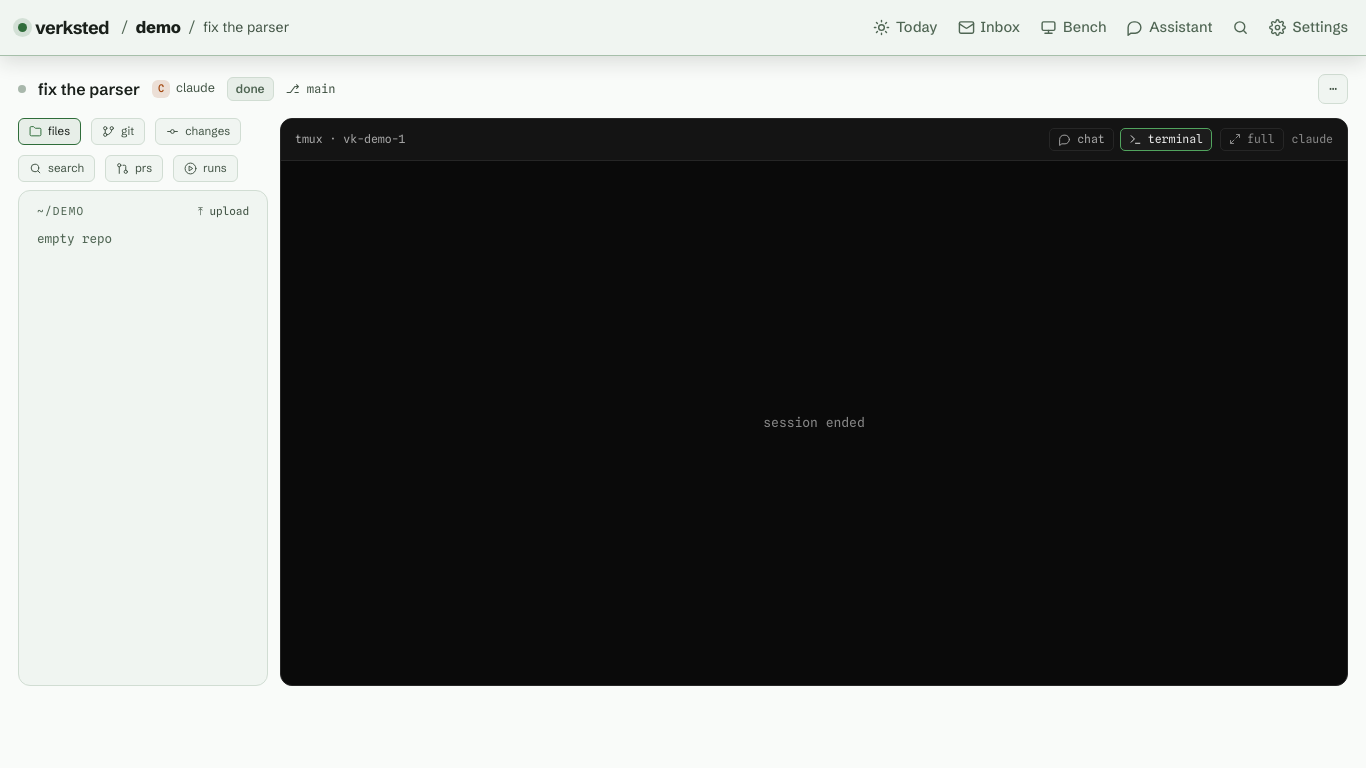
it: a delete the pod refuses › stays on the screen and says why
The width and height of the screenshot is (1366, 768).
Click the button named "session actions": x=1333, y=89 [1318,74,1348,104]
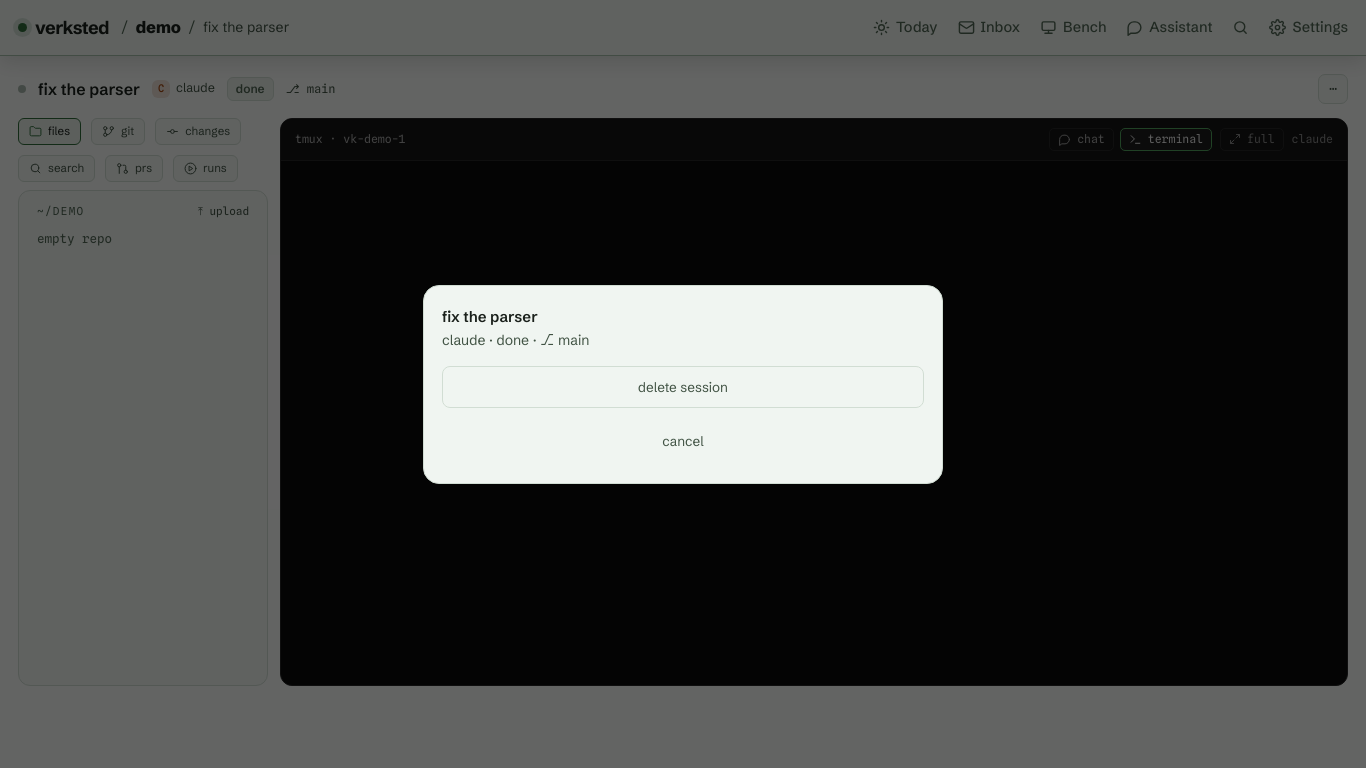
Click the button "delete session": x=683, y=387 [442,366,924,408]
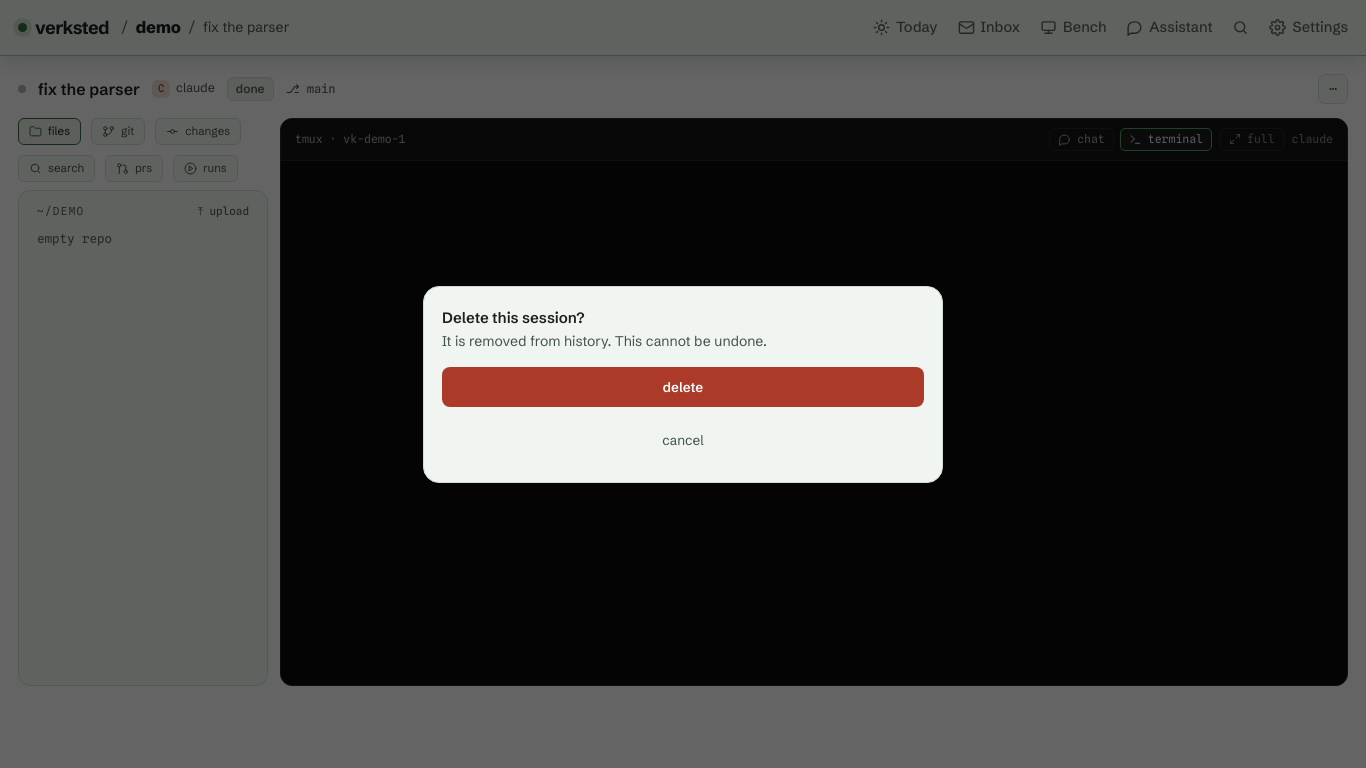
Click the button "delete": x=683, y=387 [442,367,924,407]
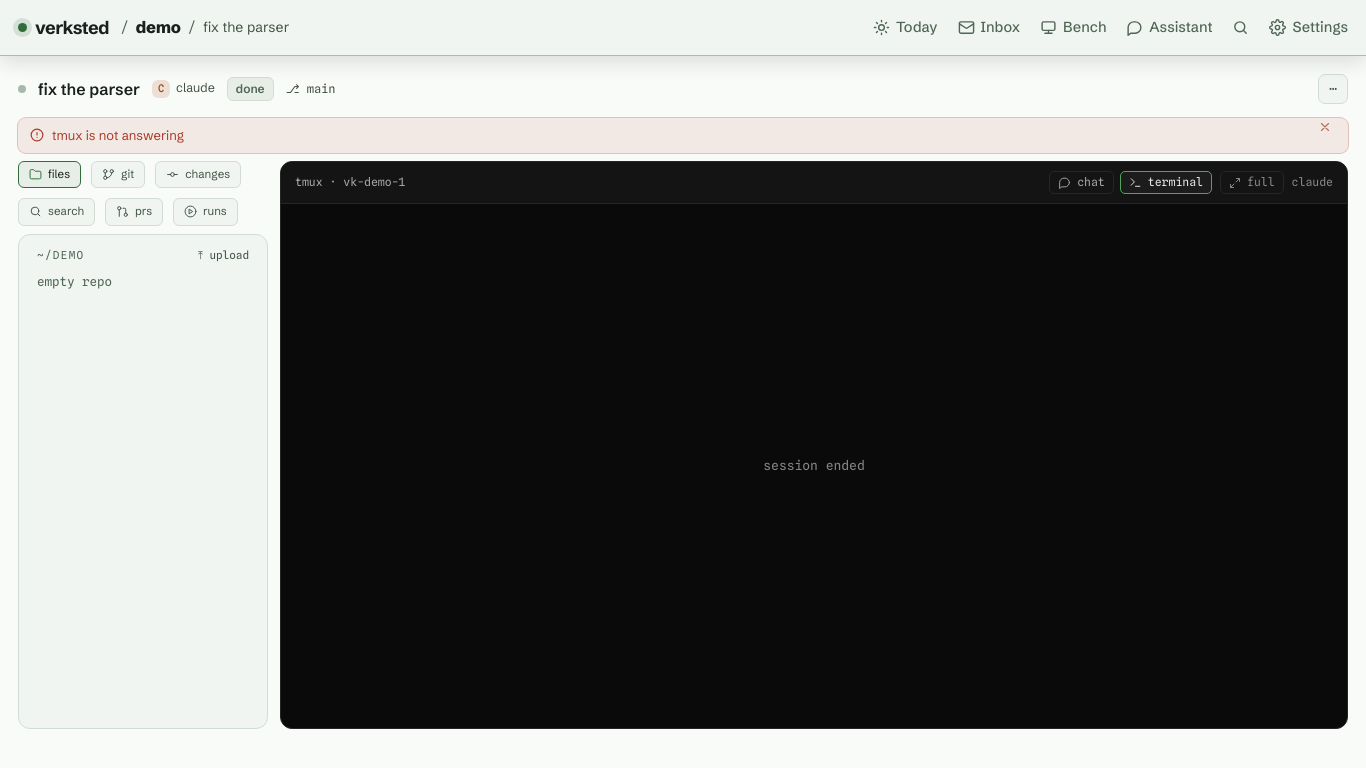
Check: the message reads "tmux is not answering", box [52,126,184,142]
